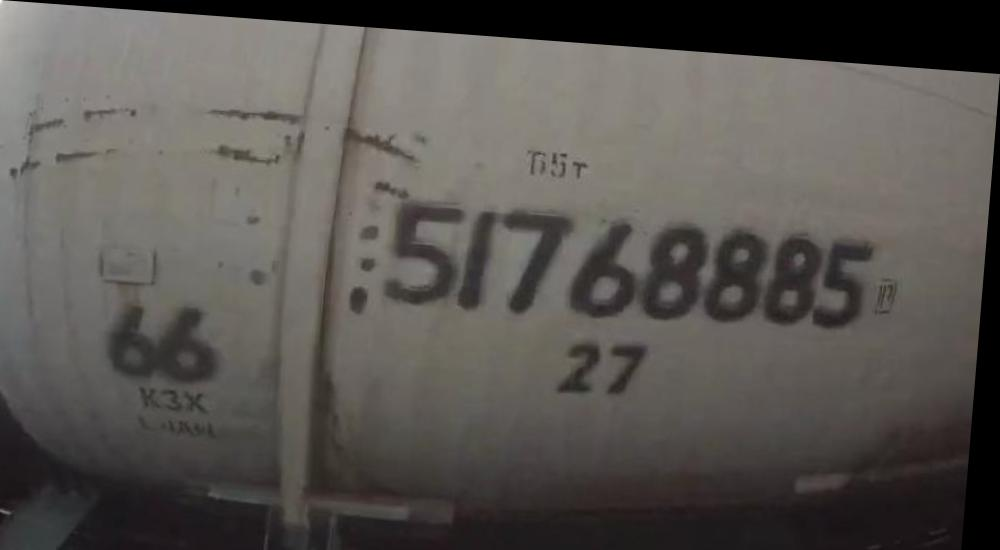Wagon-number: (383, 189, 882, 331)
